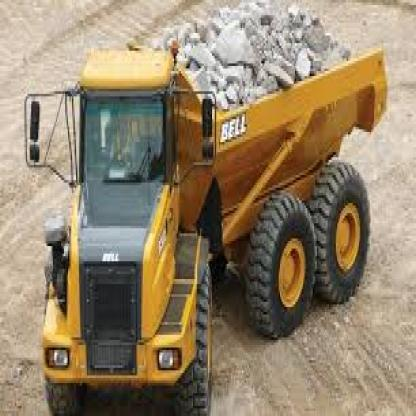dump_truck: (27, 10, 390, 414)
